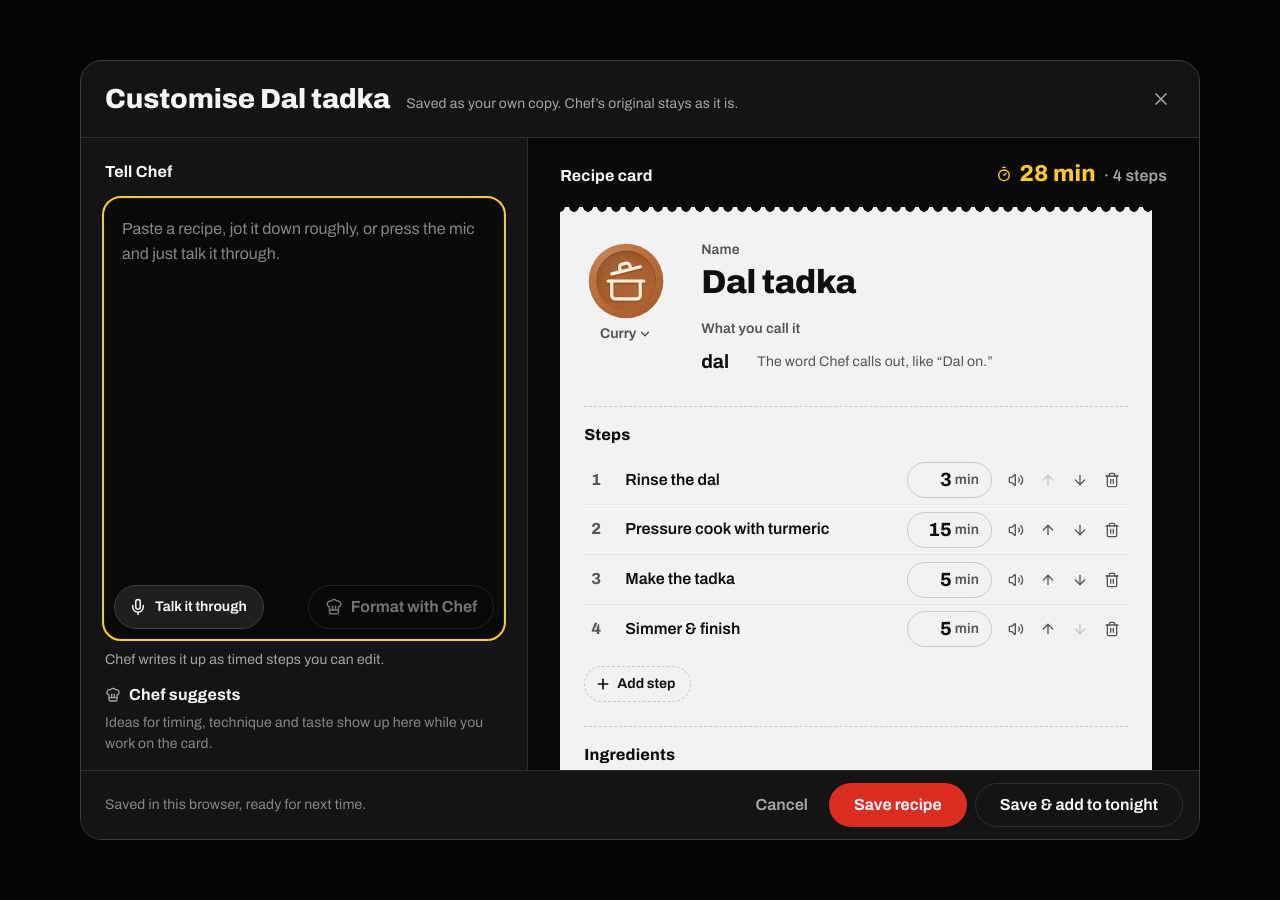
Test: RecipeStudio › shows a scribe error and keeps the card
In the text box with test id "studio-text": (304, 388) left=106, top=200, right=502, bottom=577, type "Add a pinch of hing to the tadka."
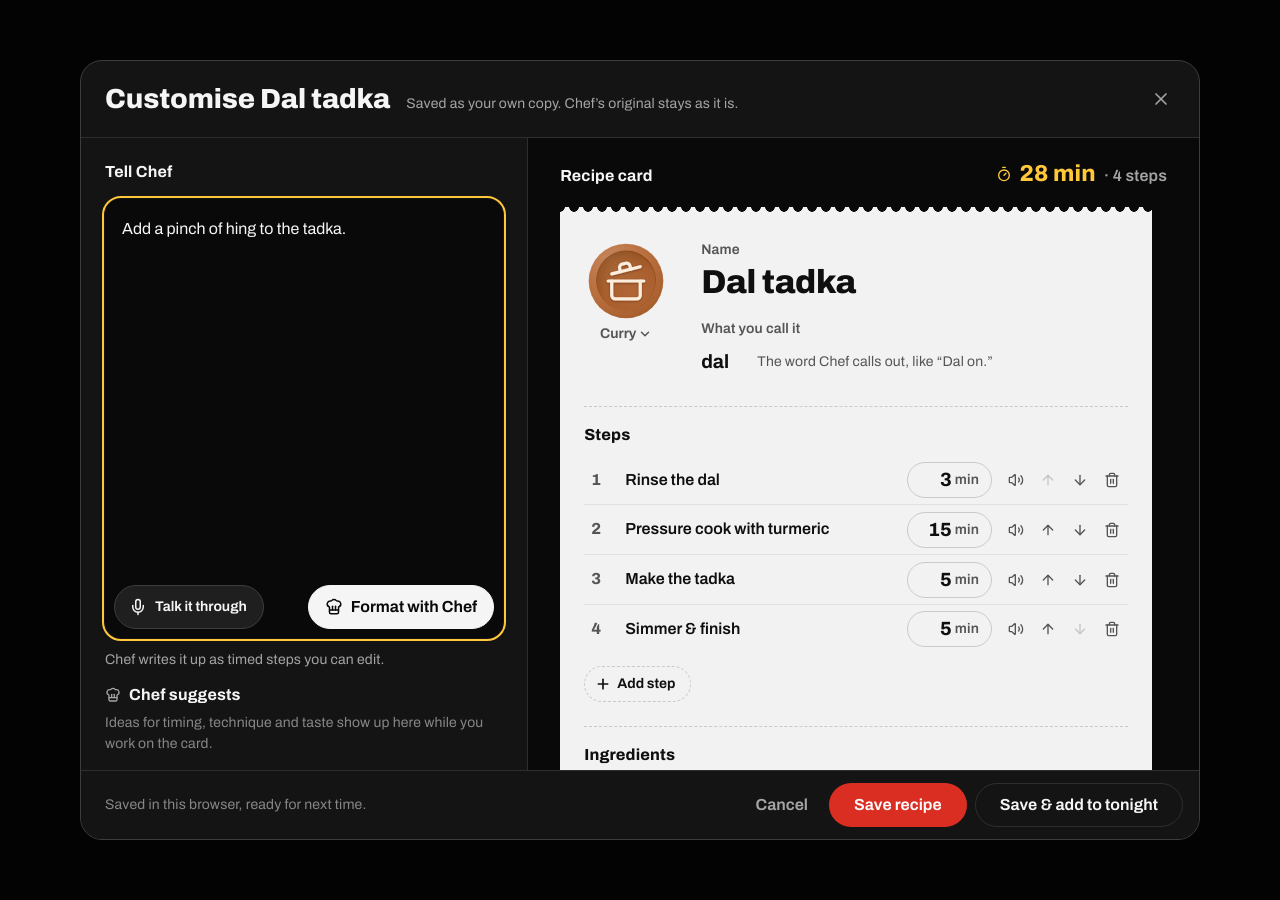
Click the button with test id "studio-format": (401, 607) left=308, top=585, right=494, bottom=629
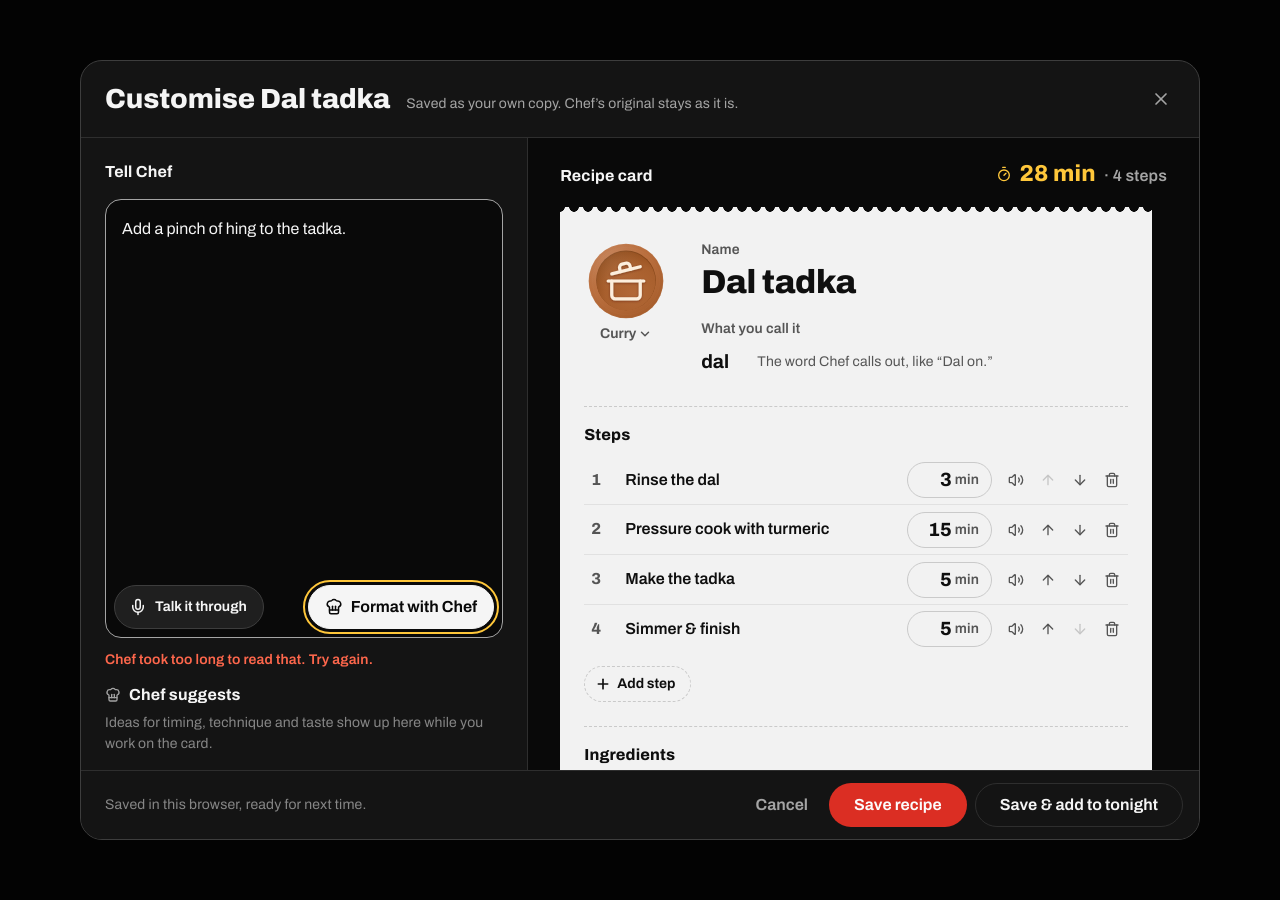
Expected: the number of list items with test id "studio-step" is 4, left=584, top=456, right=1128, bottom=504; left=584, top=504, right=1128, bottom=554; left=584, top=554, right=1128, bottom=604; left=584, top=604, right=1128, bottom=654
Expected: the message with test id "studio-status" reads "Chef took too long to read that. Try again.", left=105, top=652, right=373, bottom=667
